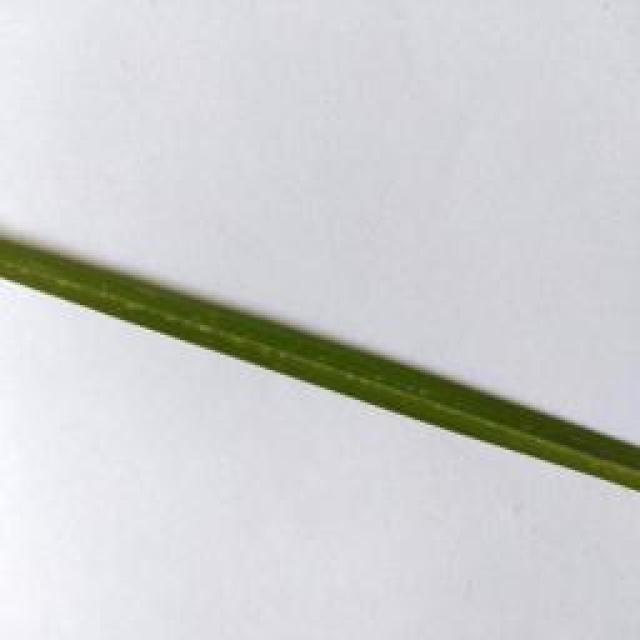Healthy-Plant: (0, 233, 640, 492)
